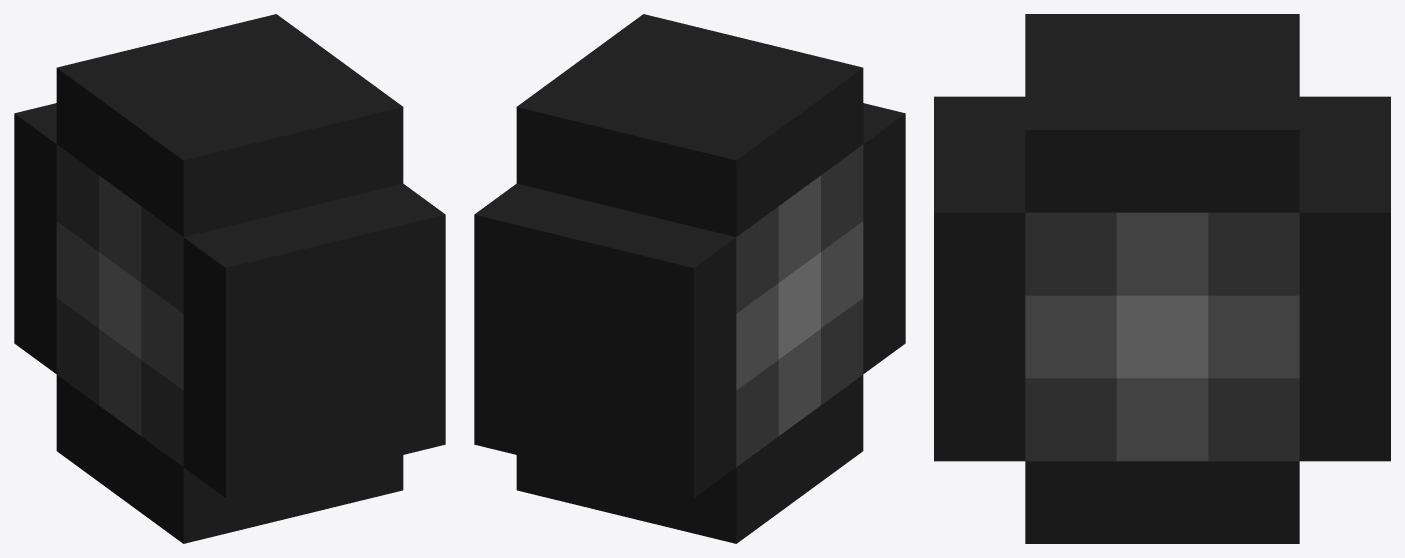
File: SmallCar0Wheel.obj
3 renders of one model, left to right at view 1: azimuth 30°, elevation 25°; view 2: azimuth 150°, elevation 25°; view 3: azimuth 270°, elevation 25°, orthographic. The views are drawn at different scales.
Size of the model in its own units: 0.3 by 0.5 by 0.5.
Materials: 1 (1 with a texture image).
